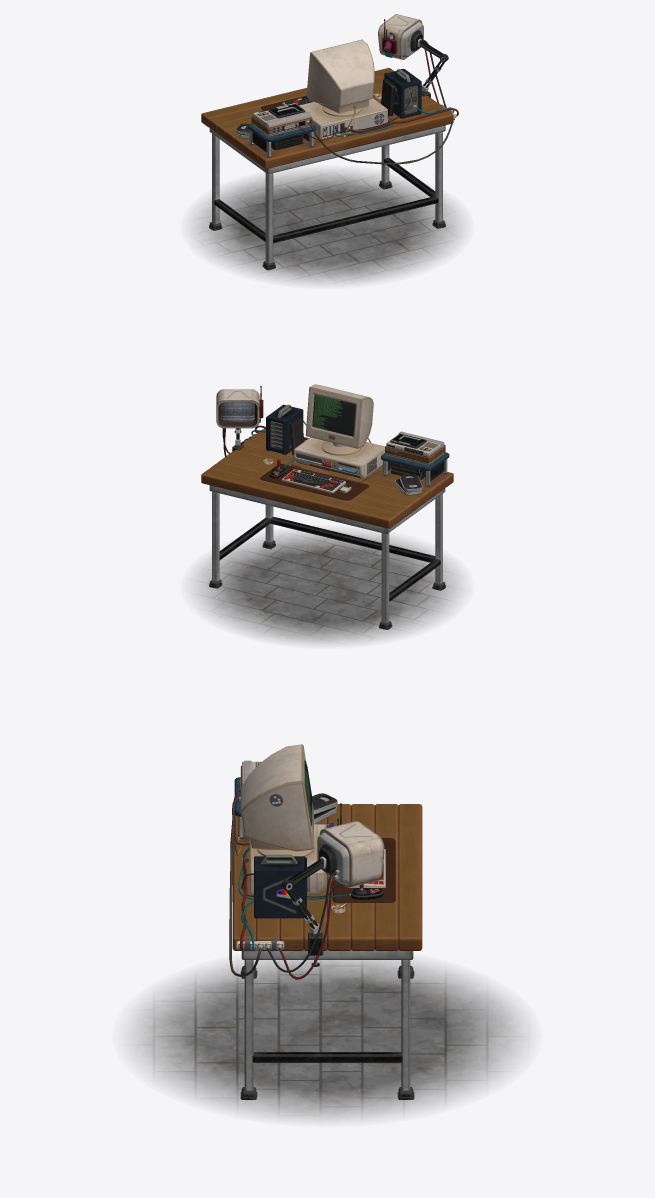
File: hacker-room.glb
3 views of the same model, one above another, from view 1: azimuth 30°, elevation 25°; view 2: azimuth 150°, elevation 25°; view 3: azimuth 270°, elevation 25° (orthographic). The views are drawn at different scales.
Visible parts, largest first — view 1: table_table_mat_0; view 2: table_table_mat_0, screen_screens_0; view 3: table_table_mat_0.
Boxes of the visible parts, x1,y1,x2,y2 form: table_table_mat_0: (190,14,464,284); table_table_mat_0: (190,384,464,644); screen_screens_0: (221,394,355,436); table_table_mat_0: (126,744,528,1121).
Bounding box in the file's own units: 272 × 119 × 245.
14 materials, 14 textured.
